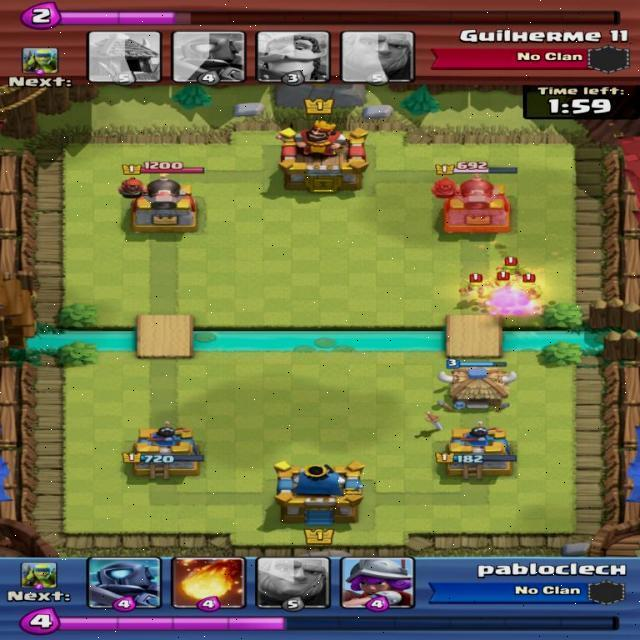ECannoneerTower: (432, 179, 519, 234), (125, 180, 203, 239)
EGoblin: (461, 272, 489, 301), (515, 276, 540, 301), (490, 271, 513, 298), (497, 255, 522, 278)
EKingTower: (275, 126, 364, 196)
OGoblinHut: (443, 368, 518, 412)
OwnKingTower: (275, 466, 362, 527)
OwnPrincessTower: (133, 431, 197, 478), (447, 436, 513, 475)
